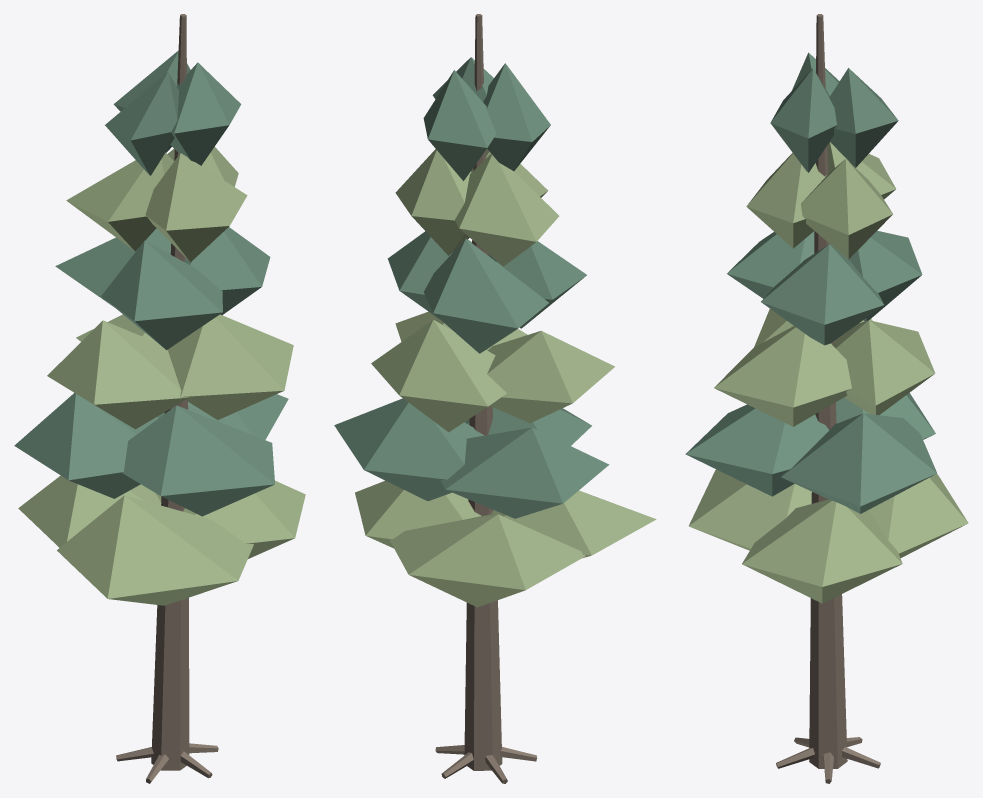
The picture shows the model from 3 angles, left to right: view 1: azimuth 30°, elevation 25°; view 2: azimuth 150°, elevation 25°; view 3: azimuth 270°, elevation 25°; orthographic projection.
Bounding box in the file's own units: 8.7 × 24.61 × 8.41.
